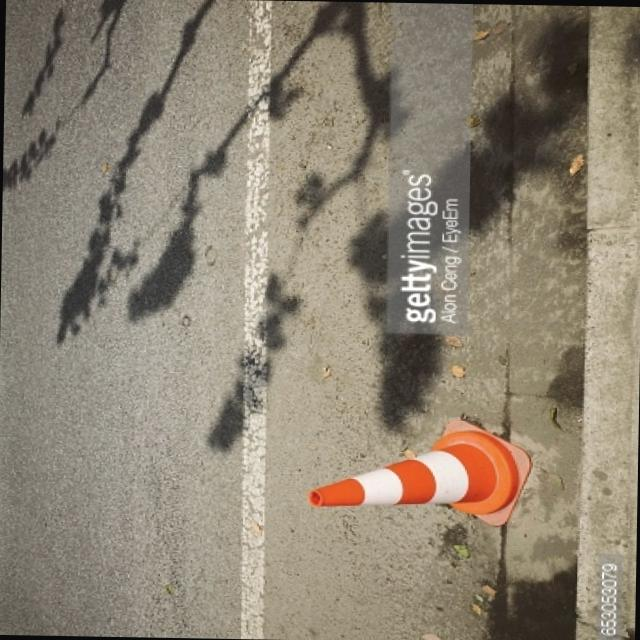cone: (274, 400, 545, 559)
